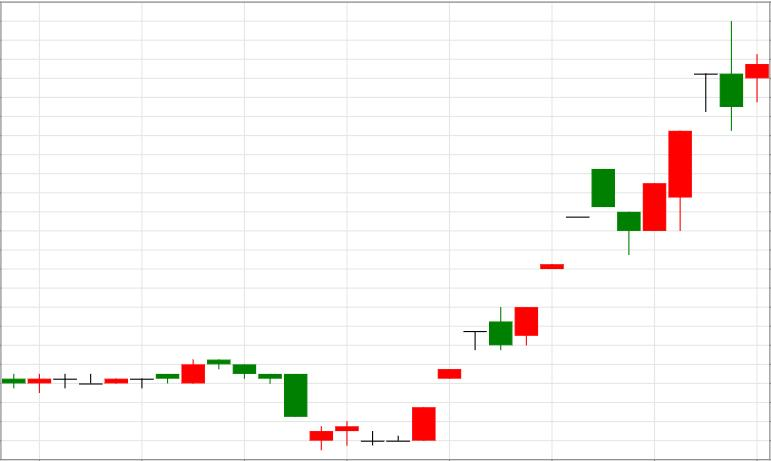shooting_star_fall: (617, 21, 742, 256)
